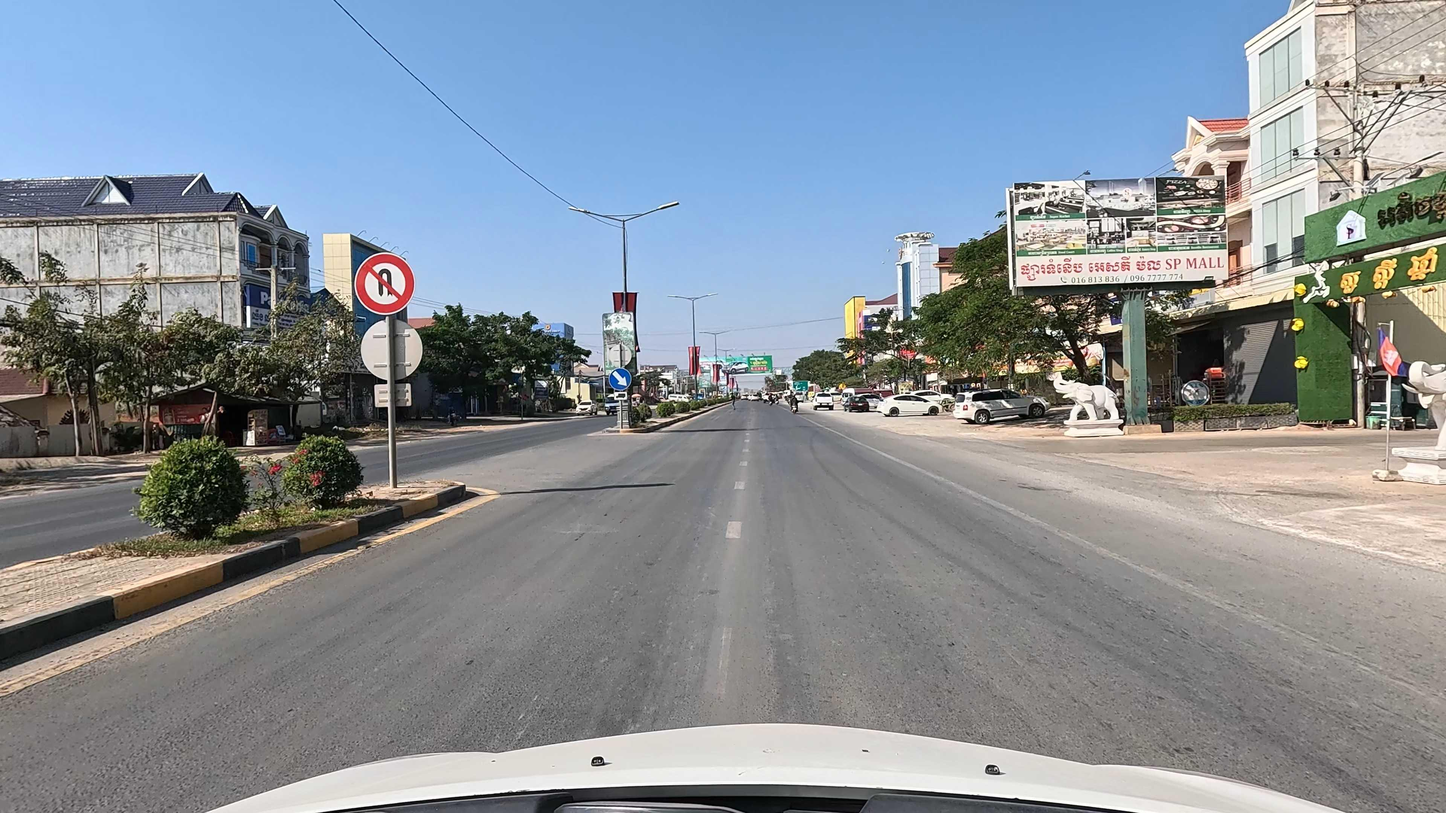no_u_turn: (354, 251, 416, 315)
